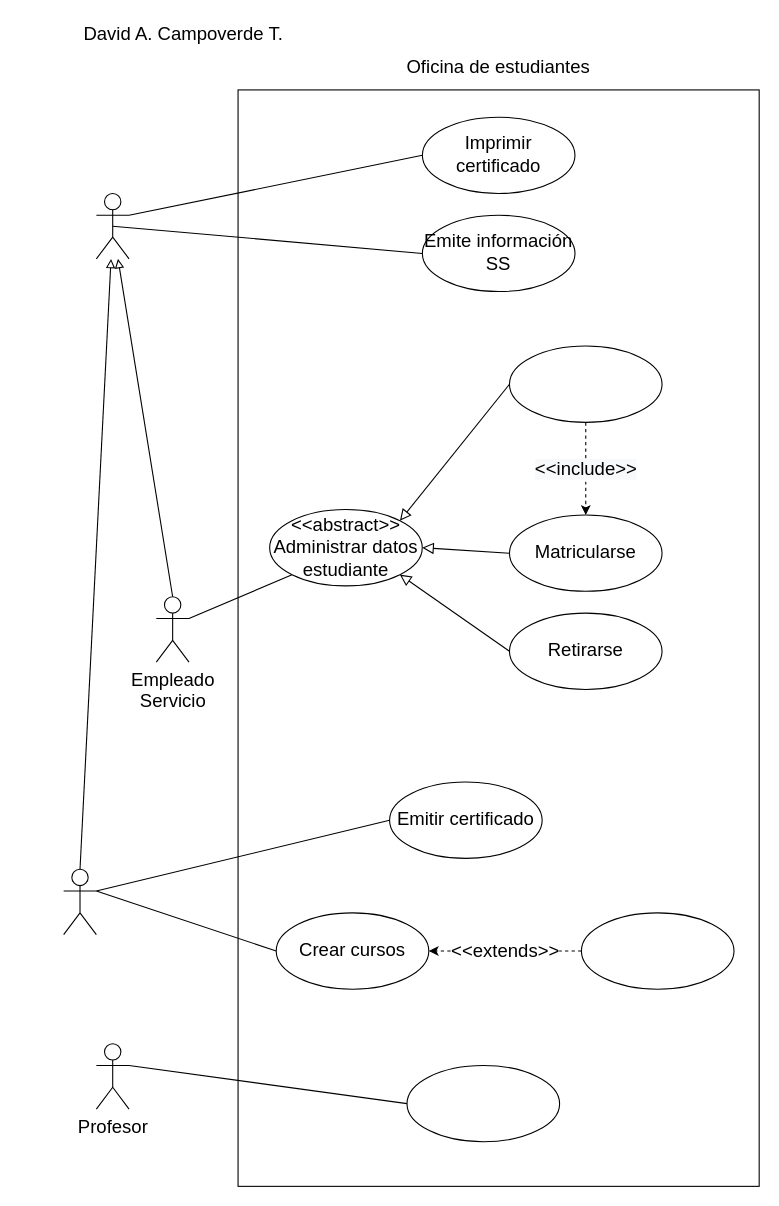
Image size: 779x1206. Some labels were removed from this diagram. Each missing label, with the box of its shape:
Empleado: (95, 192, 129, 259)
Empleado Administración: (63, 868, 96, 935)
Envía información: (406, 1064, 560, 1142)
Registrarse: (508, 345, 662, 422)
Reservar sala conferencia: (580, 912, 734, 989)
